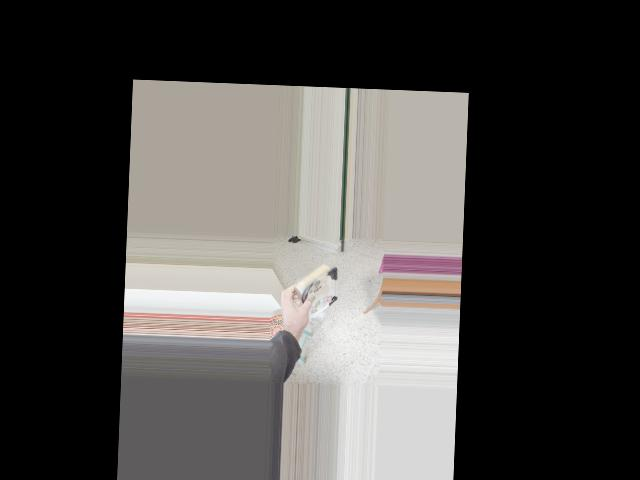cheese: (276, 249, 356, 316)
